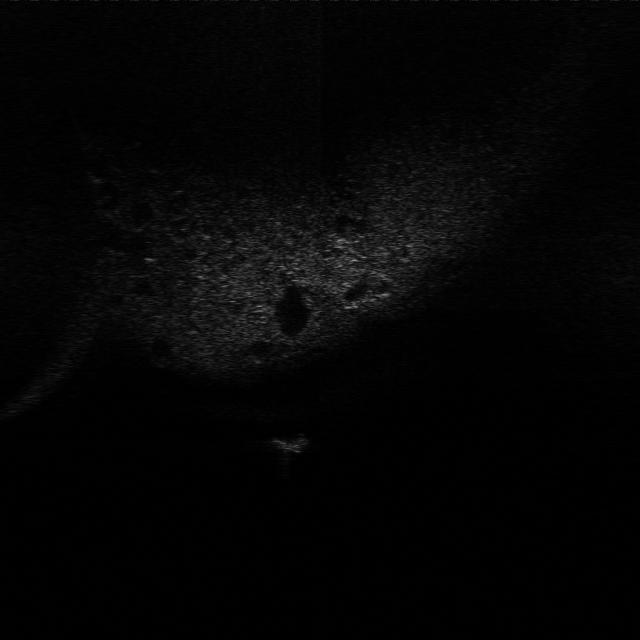cube: (268, 430, 314, 462)
